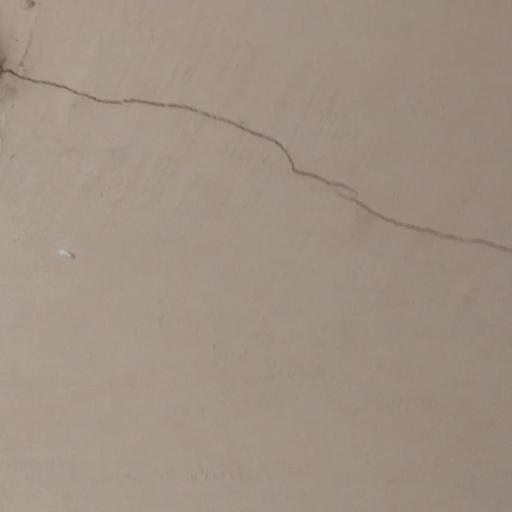minor_crack: (0, 46, 512, 259)
